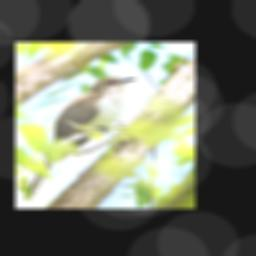Cuckoo: (21, 75, 137, 201)
